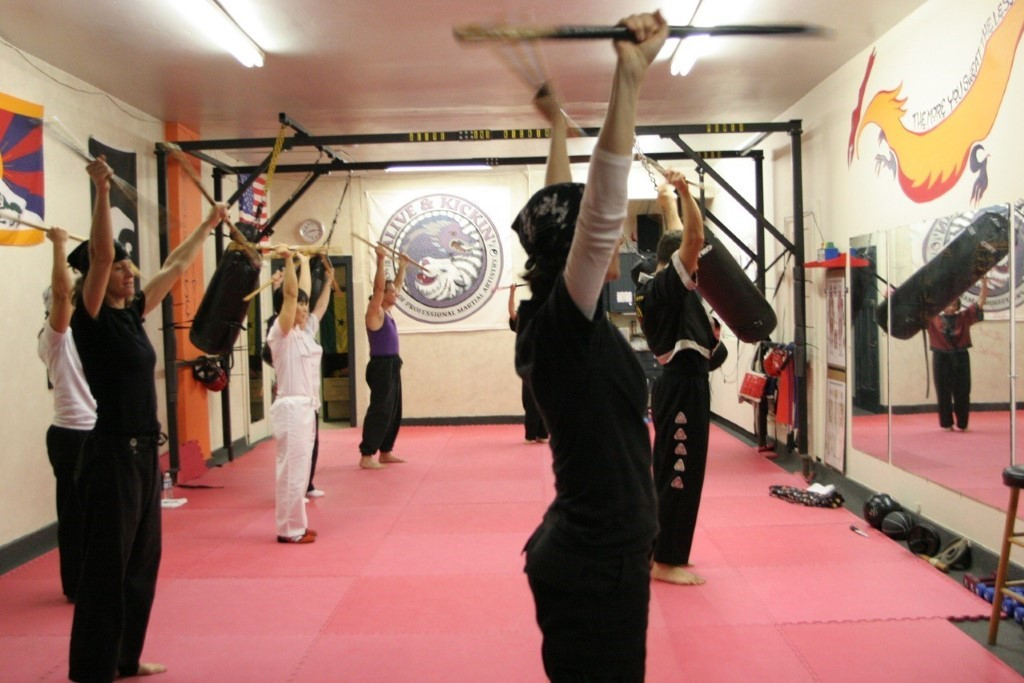baston_e: (164, 149, 257, 258), (459, 21, 811, 41), (248, 262, 301, 300), (377, 242, 428, 271), (352, 235, 391, 258), (494, 283, 529, 289)
baston_v: (447, 21, 474, 48), (797, 20, 827, 40), (161, 138, 182, 156), (240, 296, 250, 303), (426, 268, 432, 274), (375, 239, 380, 244), (349, 231, 354, 236)
